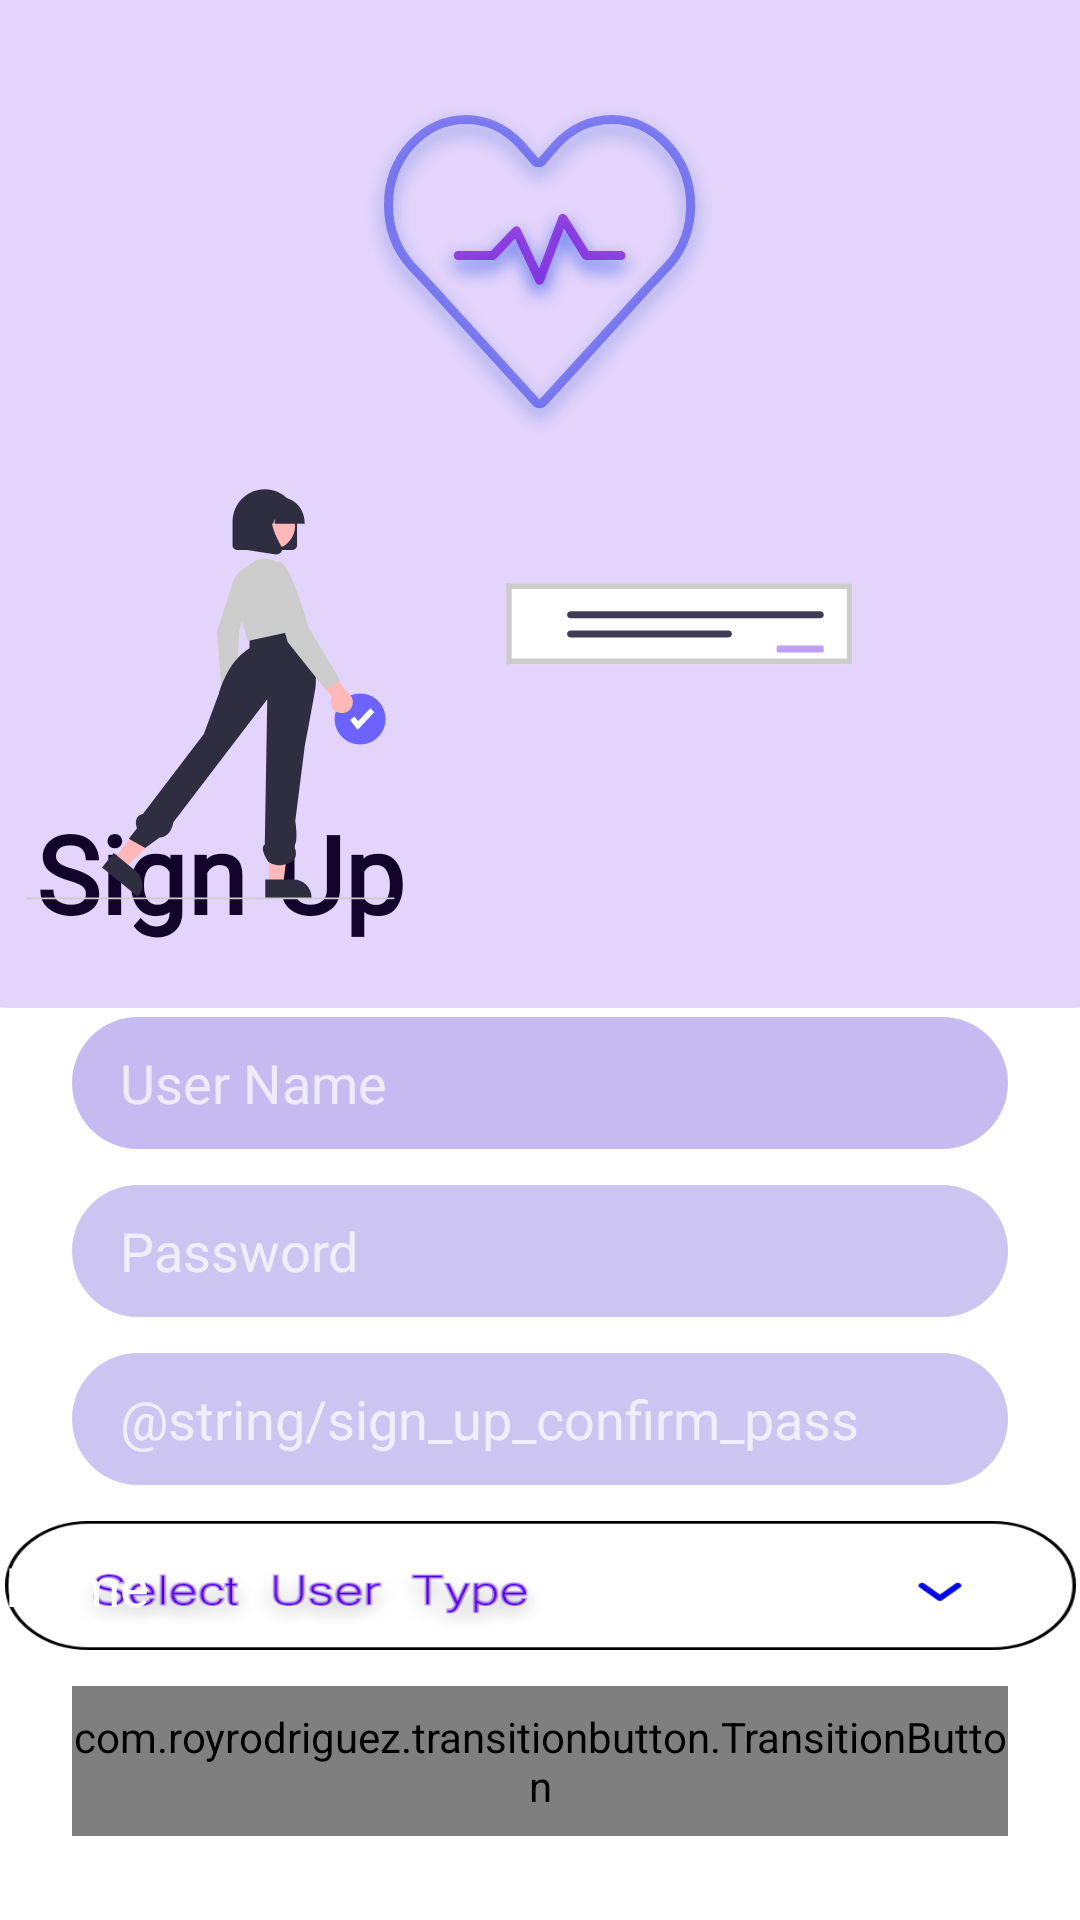

Icon bounding boxes for this 1080px×1920px phone screenshot, format box=[x1, y1, x2, y2]:
iconhart: box=[383, 115, 696, 417]
